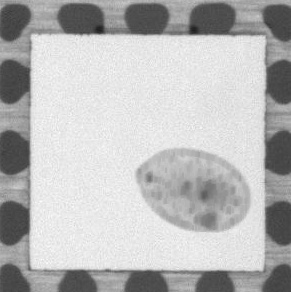DIE_INK: (133, 147, 250, 234)
